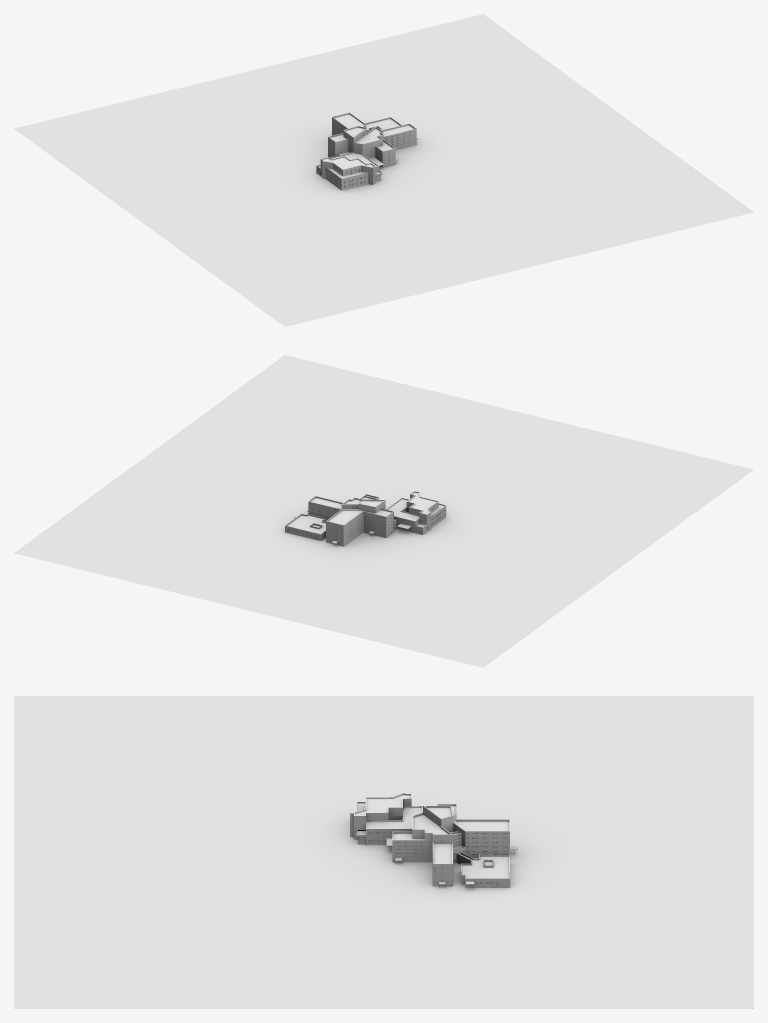
The model's file is kavala_building26.glb.
The picture shows the model from 3 angles, top to bottom: view 1: azimuth 30°, elevation 25°; view 2: azimuth 150°, elevation 25°; view 3: azimuth 270°, elevation 25°; orthographic projection. The views are drawn at different scales.
Visible parts, largest first — view 1: building08; view 2: building08; view 3: building08.
Boxes of the visible parts, left/top/right/bottom form: building08: left=14, top=14, right=753, bottom=326; building08: left=14, top=355, right=753, bottom=667; building08: left=14, top=696, right=753, bottom=1008.
Size of the model in its own units: 36.4 by 1.95 by 36.4.
1 material, 1 textured.
